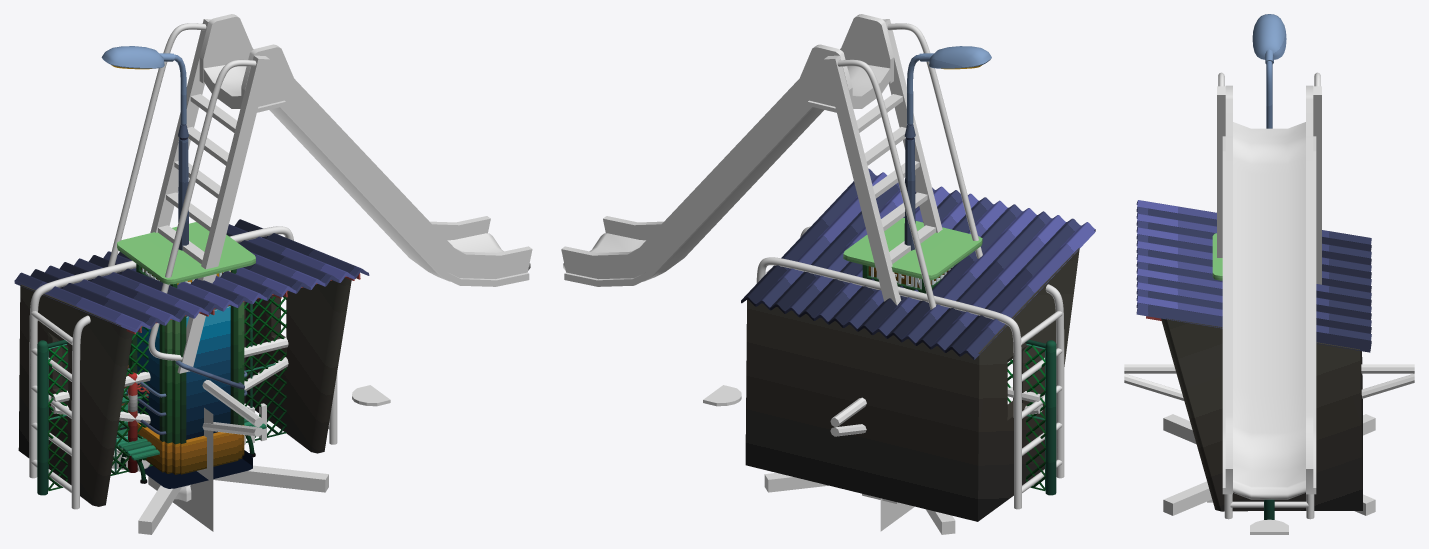
The model's file is Bin.fbx.
The picture shows the model from 3 angles, left to right: view 1: azimuth 30°, elevation 25°; view 2: azimuth 150°, elevation 25°; view 3: azimuth 270°, elevation 25°; orthographic projection. The views are drawn at different scales.
Visible parts, largest first — view 1: Bus_Stop, Public_Phone, Cube.015, Cube.013, Fence, zabawka 1, Cube.014, NurbsPath, Cube.017, Street_Lamp, Cube.016, Plane (+6 smaller); view 2: Bus_Stop, Cube.015, Cube.013, zabawka 1, Public_Phone, Cube.014, NurbsPath, Fence, Street_Lamp, Cube.016, NurbsPath.001, Cube.017; view 3: Bus_Stop, Cube.014, Cube.015, Cube.013, Cube.017, Street_Lamp, Cylinder.027, Cylinder.025, Cylinder.028, NurbsPath.001, zabawka 1, Public_Phone.
Part boxes in pixels (x1,y1,x2,y2): Bus_Stop: (14,219,369,506); Public_Phone: (117,222,255,488); Cube.015: (199,14,532,286); Cube.013: (150,19,269,373); Fence: (37,296,286,495); zabawka 1: (29,226,337,509); Cube.014: (203,65,530,281); NurbsPath: (108,23,256,361); Cube.017: (112,450,328,534); Street_Lamp: (101,46,188,250); Cube.016: (158,94,237,263); Plane: (148,407,213,531); Bus_Stop: (741,168,1095,521); Cube.015: (561,14,894,286); Cube.013: (823,19,942,305); zabawka 1: (756,226,1064,509); Public_Phone: (843,217,982,293); Cube.014: (563,65,890,281); NurbsPath: (837,23,982,309); Fence: (1007,339,1056,495); Street_Lamp: (904,46,991,250); Cube.016: (856,94,935,288); NurbsPath.001: (765,269,1062,492); Cube.017: (764,473,955,534); Bus_Stop: (1136,200,1371,511); Cube.014: (1233,122,1305,499); Cube.015: (1222,85,1316,494); Cube.013: (1217,86,1321,284); Cube.017: (1163,414,1375,515); Street_Lamp: (1252,14,1286,128); Cylinder.027: (1124,373,1414,400); Cylinder.025: (1124,364,1414,373); Cylinder.028: (1250,519,1288,534); NurbsPath.001: (1230,501,1308,507); zabawka 1: (1224,494,1314,519); Public_Phone: (1212,233,1222,280).
Size of the model in its own units: 2690 by 2577 by 1482.
